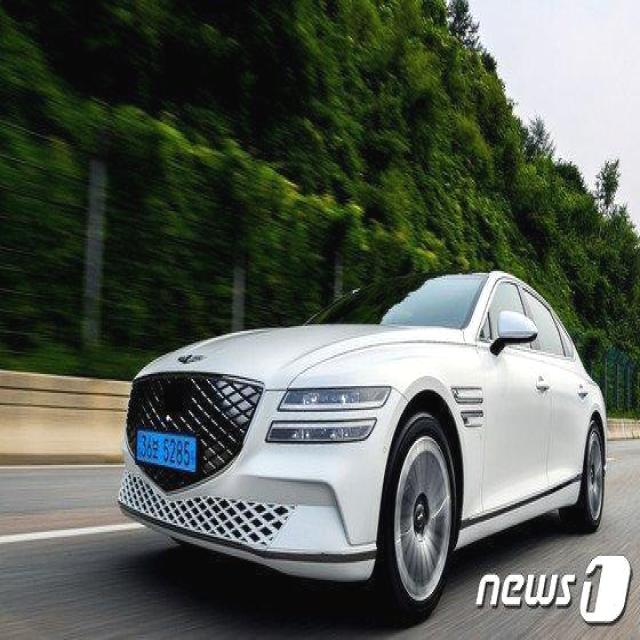EV_plate: (136, 427, 199, 478)
car: (107, 259, 606, 625)
